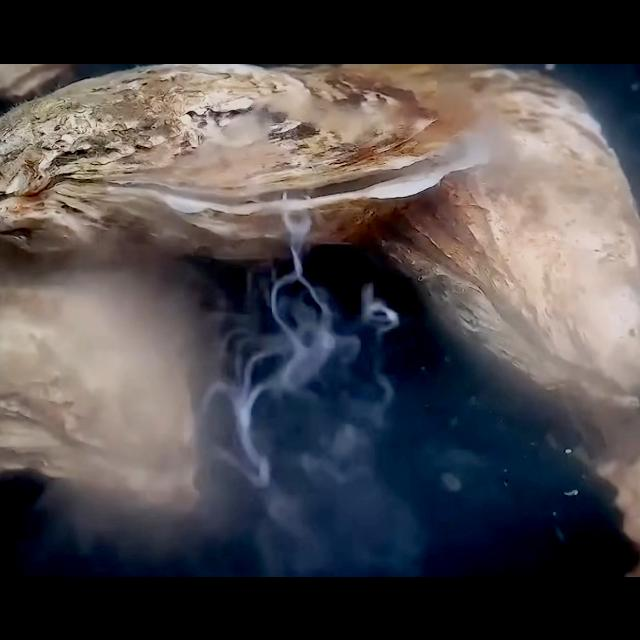Oyster-Closed: (342, 62, 640, 408), (0, 284, 204, 514)
Oyster-Open: (0, 63, 490, 257), (0, 63, 68, 95)
